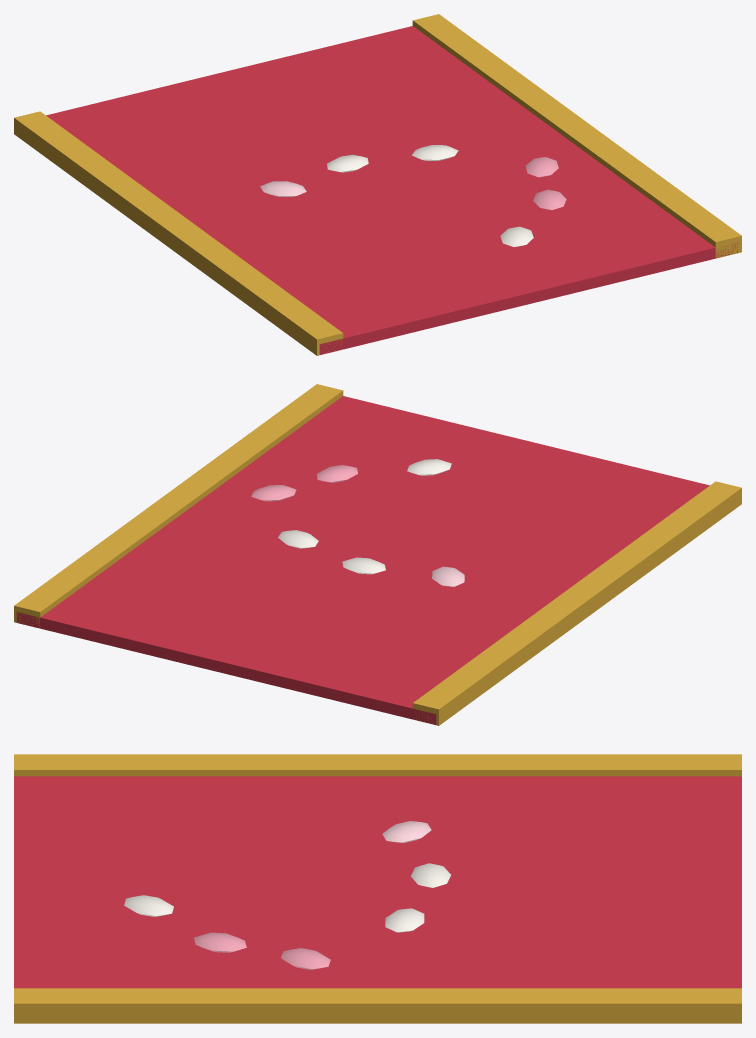
File: tapete_corredor.glb
The picture shows the model from 3 angles, top to bottom: view 1: azimuth 30°, elevation 25°; view 2: azimuth 150°, elevation 25°; view 3: azimuth 270°, elevation 25°; orthographic projection. The views are drawn at different scales.
Parts seen in each view (by area): view 1: Tapete_Corredor; view 2: Tapete_Corredor; view 3: Tapete_Corredor.
Boxes of the visible parts, left/top/right/bottom form: Tapete_Corredor: left=14, top=14, right=741, bottom=355; Tapete_Corredor: left=14, top=384, right=741, bottom=725; Tapete_Corredor: left=14, top=754, right=741, bottom=1023.
Bounding box in the file's own units: 0.81 × 0.036 × 1.
